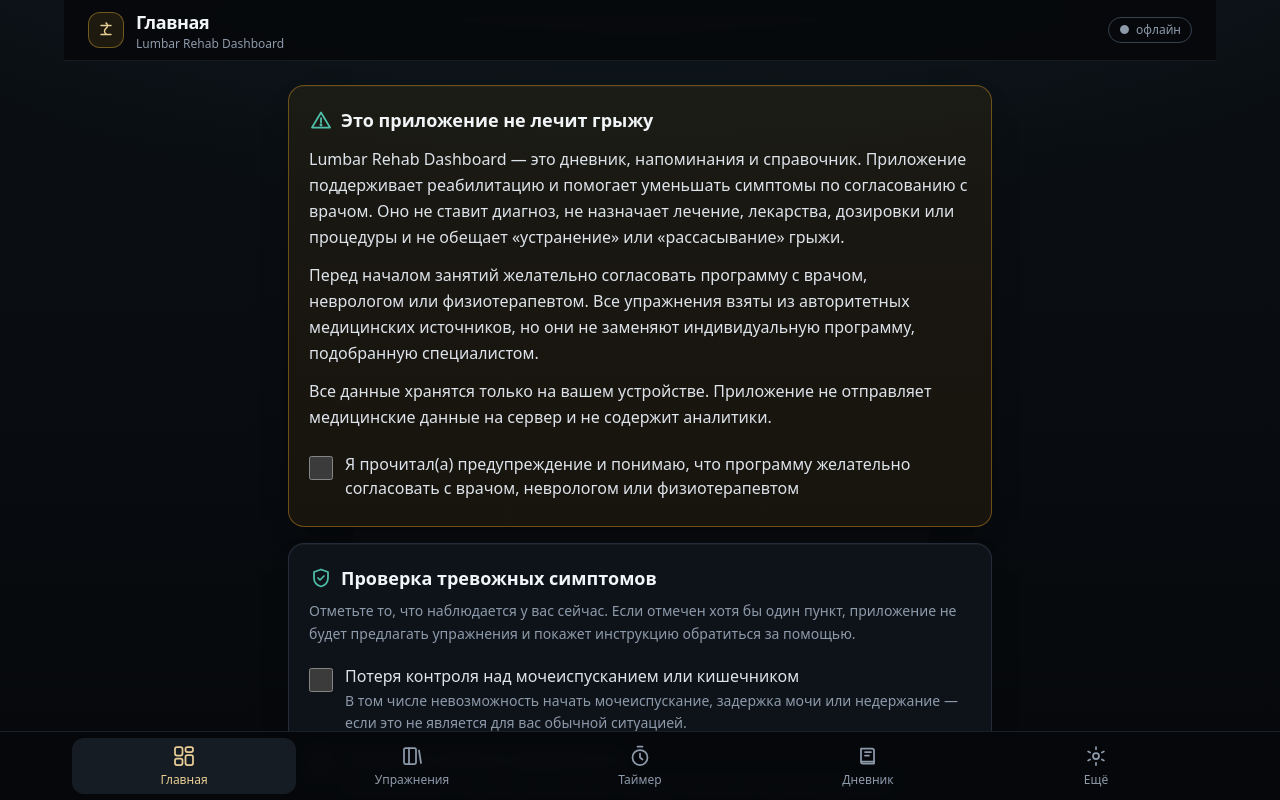
safety interlocks › does not offer exercises when a red flag is reported
Click the checkbox labelled "Я прочитал(а) предупреждение": (321, 468) [309,456,333,480]
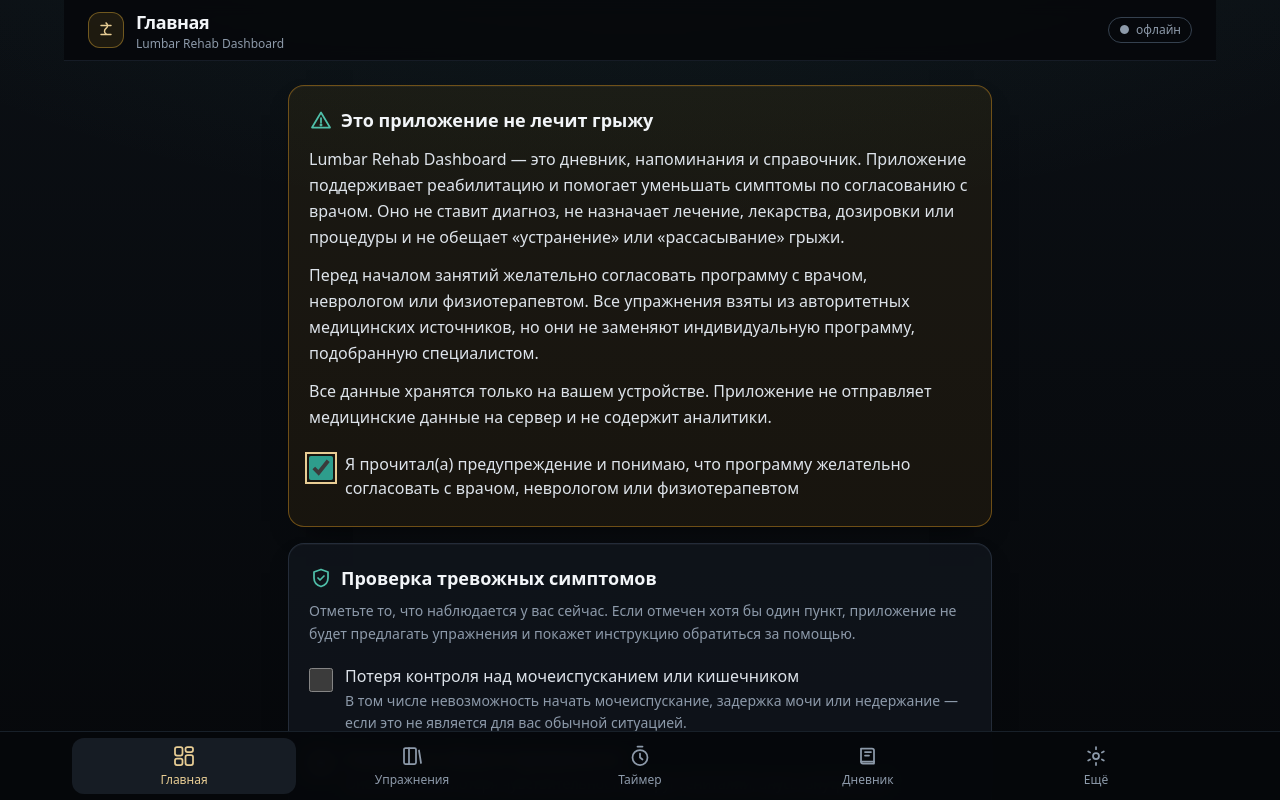
Click the checkbox labelled "Потеря контроля над мочеиспусканием или кишечником": (321, 680) [309,668,333,692]
(page scrolled)
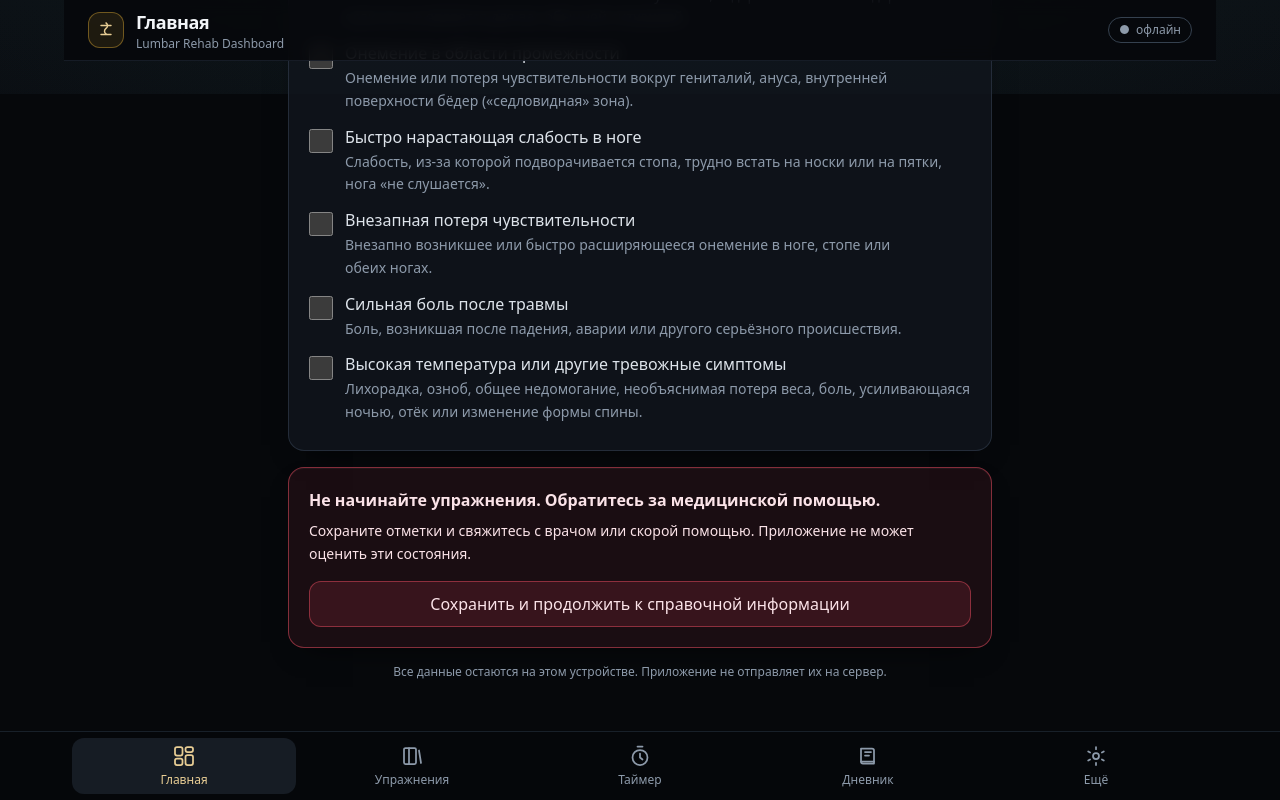
Click the button "Сохранить и продолжить к справочной информации": (640, 604) [309,581,971,627]
(page scrolled)
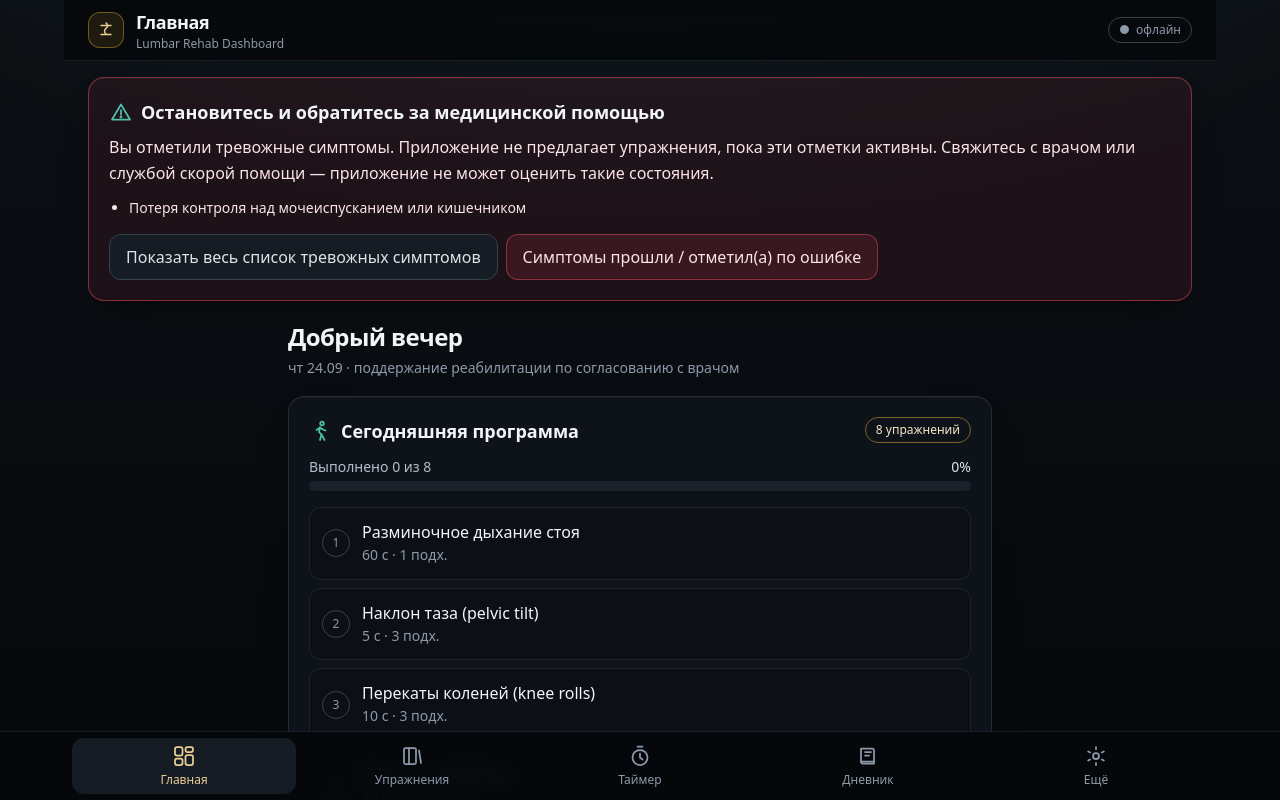
Expected: the message is shown, [88,77,1192,301]
Expected: the heading "Остановитесь и обратитесь за медицинской помощью" is shown, [109,100,665,124]
